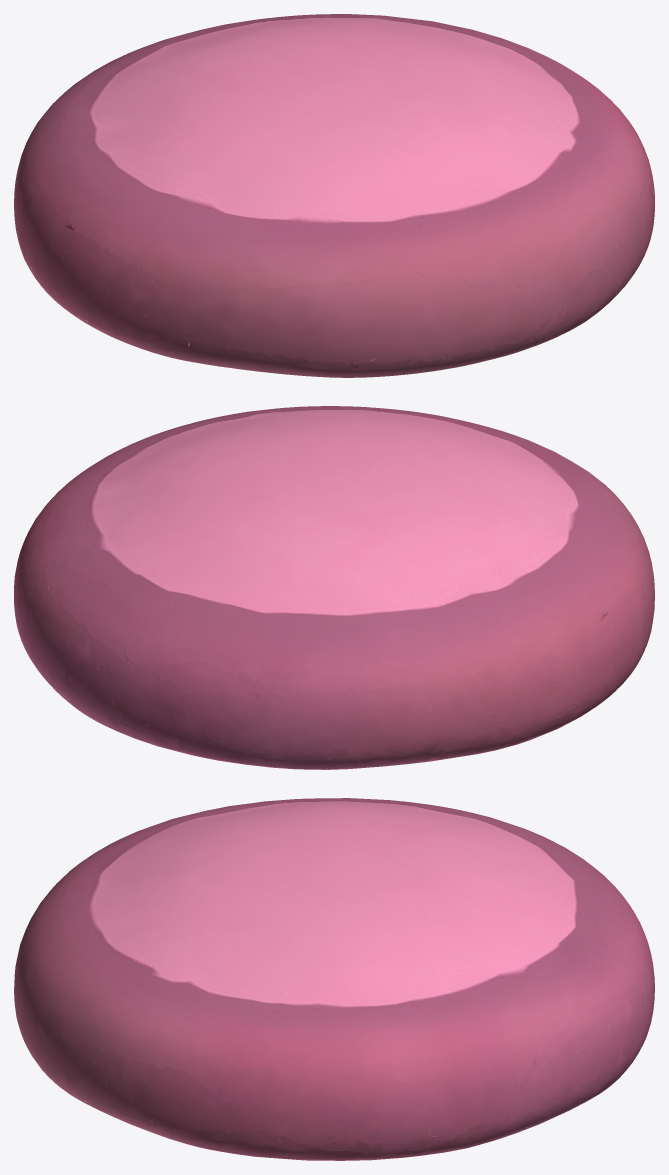
Rendered from rose.glb.
The picture shows the model from 3 angles, top to bottom: view 1: azimuth 30°, elevation 25°; view 2: azimuth 150°, elevation 25°; view 3: azimuth 270°, elevation 25°; orthographic projection.
Size of the model in its own units: 0.27 by 0.0828 by 0.2701.
Materials: 1 (1 with a texture image).
